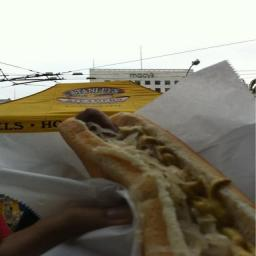hotdog: (76, 106, 125, 140)
